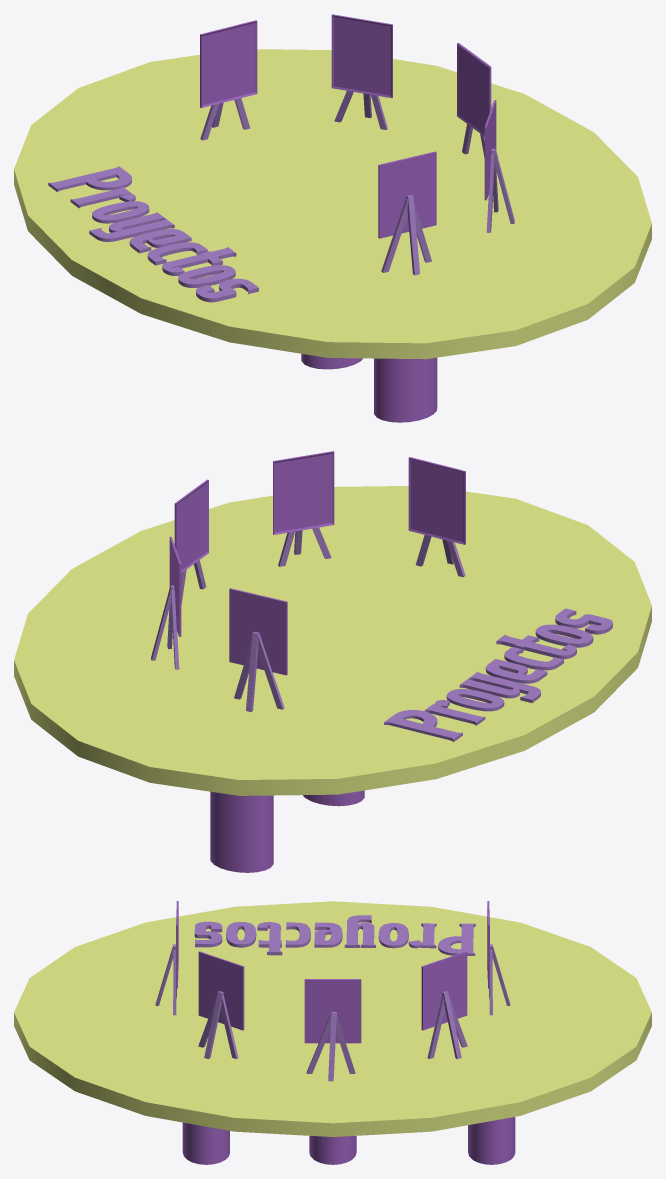
File: exportado.glb
3 renders of one model, top to bottom at view 1: azimuth 30°, elevation 25°; view 2: azimuth 150°, elevation 25°; view 3: azimuth 270°, elevation 25°, orthographic. The views are drawn at different scales.
Visible parts, largest first — view 1: pCylinder1, typeMesh1, pasted__pasted__pCube1.002, pasted__pCube1, pasted__pCylinder2.001, pCube1, pasted__pasted__pasted__pasted__pCube1.002, pasted__pasted__pasted__pasted__pCube1.001, pasted__pasted__pasted__pCube1.002, pCylinder2, pasted__pasted__pasted__pasted__pasted__pCube1, pasted__pasted__pasted__pCube1.001; view 2: pCylinder1, typeMesh1, pasted__pasted__pCube1.002, pasted__pCube1, pasted__pCylinder2, pCube1, pasted__pasted__pasted__pasted__pCube1.002, pasted__pasted__pasted__pasted__pCube1.001, pasted__pasted__pasted__pCube1.002, pCylinder2, pasted__pasted__pasted__pasted__pasted__pCube1, pasted__pasted__pasted__pCube1.001; view 3: pCylinder1, typeMesh1, pasted__pCube1, pCube1, pasted__pCylinder2, pasted__pCylinder2.001, pCylinder2, pasted__pasted__pasted__pCube1.001, pasted__pasted__pasted__pasted__pCube1, pasted__pasted__pasted__pasted__pCube1.001, pasted__pasted__pasted__pCube1.002, pasted__pasted__pCube1.002 (+2 smaller).
Part boxes in pixels (x1,y1,x2,y2): pCylinder1: (14, 49, 651, 359); typeMesh1: (48, 166, 258, 302); pasted__pasted__pCube1.002: (200, 20, 436, 238); pasted__pCube1: (331, 14, 496, 200); pasted__pCylinder2.001: (374, 357, 437, 422); pCube1: (457, 43, 491, 136); pasted__pasted__pasted__pasted__pCube1.002: (200, 104, 407, 272); pasted__pasted__pasted__pasted__pCube1.001: (212, 102, 419, 275); pasted__pasted__pasted__pCube1.002: (334, 91, 494, 232); pCylinder2: (301, 354, 362, 369); pasted__pasted__pasted__pasted__pasted__pCube1: (234, 98, 431, 262); pasted__pasted__pasted__pCube1.001: (363, 93, 514, 223); pCylinder1: (14, 486, 651, 795); typeMesh1: (384, 608, 612, 741); pasted__pasted__pCube1.002: (229, 457, 465, 675); pasted__pCube1: (169, 451, 334, 636); pasted__pCylinder2: (210, 791, 273, 872); pCube1: (174, 479, 208, 572); pasted__pasted__pasted__pasted__pCube1.002: (258, 540, 465, 709); pasted__pasted__pasted__pasted__pCube1.001: (246, 539, 453, 711); pasted__pasted__pasted__pCube1.002: (171, 527, 331, 669); pCylinder2: (303, 790, 364, 806); pasted__pasted__pasted__pasted__pasted__pCube1: (234, 535, 431, 699); pasted__pasted__pasted__pCube1.001: (151, 530, 302, 660); pCylinder1: (14, 901, 651, 1136); typeMesh1: (194, 915, 475, 955); pasted__pCube1: (198, 951, 467, 1030); pCube1: (304, 979, 361, 1043); pasted__pCylinder2: (468, 1117, 515, 1164); pasted__pCylinder2.001: (182, 1122, 229, 1164); pCylinder2: (309, 1136, 356, 1164); pasted__pasted__pasted__pCube1.001: (204, 991, 461, 1059); pasted__pasted__pasted__pasted__pCube1: (220, 995, 445, 1058); pasted__pasted__pasted__pasted__pCube1.001: (155, 944, 510, 1005); pasted__pasted__pasted__pCube1.002: (198, 994, 467, 1047); pasted__pasted__pCube1.002: (176, 901, 489, 988).
Bounding box in the file's own units: 0.0748 × 0.0366 × 0.0909.
